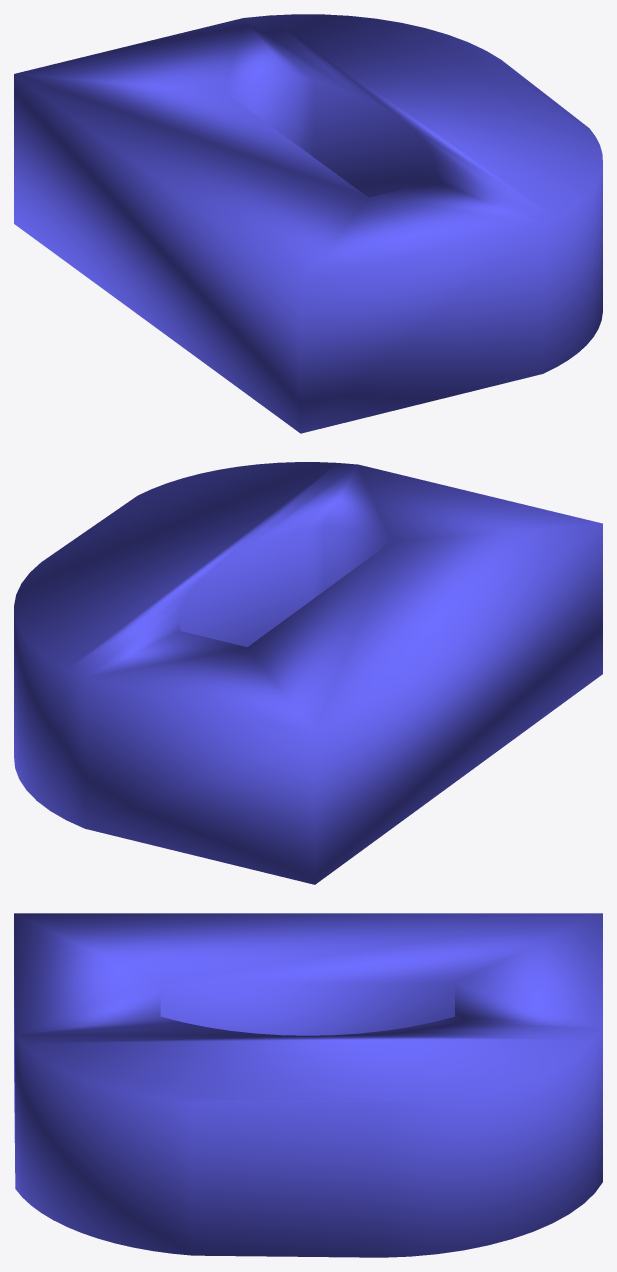
3 views of the same model, one above another, from view 1: azimuth 30°, elevation 25°; view 2: azimuth 150°, elevation 25°; view 3: azimuth 270°, elevation 25° (orthographic). The views are drawn at different scales.
Visible parts, largest first — view 1: D1; view 2: D1; view 3: D1.
Boxes of the visible parts, box(x1,y1,x2,y2) form: D1: box(14, 14, 602, 433); D1: box(14, 462, 602, 884); D1: box(14, 913, 602, 1257).
Size of the model in its own units: 15.67 by 5.91 by 20.47.
